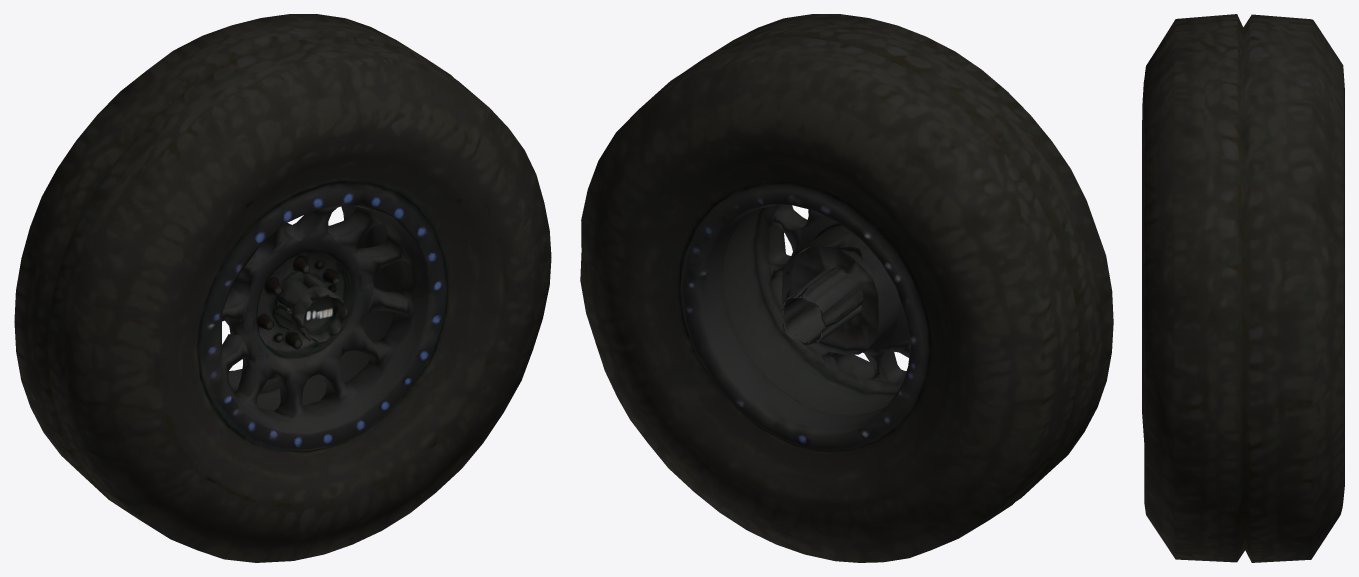
The model's file is Meshy_AI_Rugged_Wheel_Closeup_1107045349_texture.glb.
3 views of the same model, side by side, from view 1: azimuth 30°, elevation 25°; view 2: azimuth 150°, elevation 25°; view 3: azimuth 270°, elevation 25° (orthographic).
Parts seen in each view (by area): view 1: geometry_0; view 2: geometry_0; view 3: geometry_0.
Boxes of the visible parts, <box> form: geometry_0: <box>14,14,551,562</box>; geometry_0: <box>580,14,1113,562</box>; geometry_0: <box>1142,14,1344,562</box>.
Bounding box in the file's own units: 0.9561 × 0.9517 × 0.3511.
Materials: 1 (1 with a texture image).
